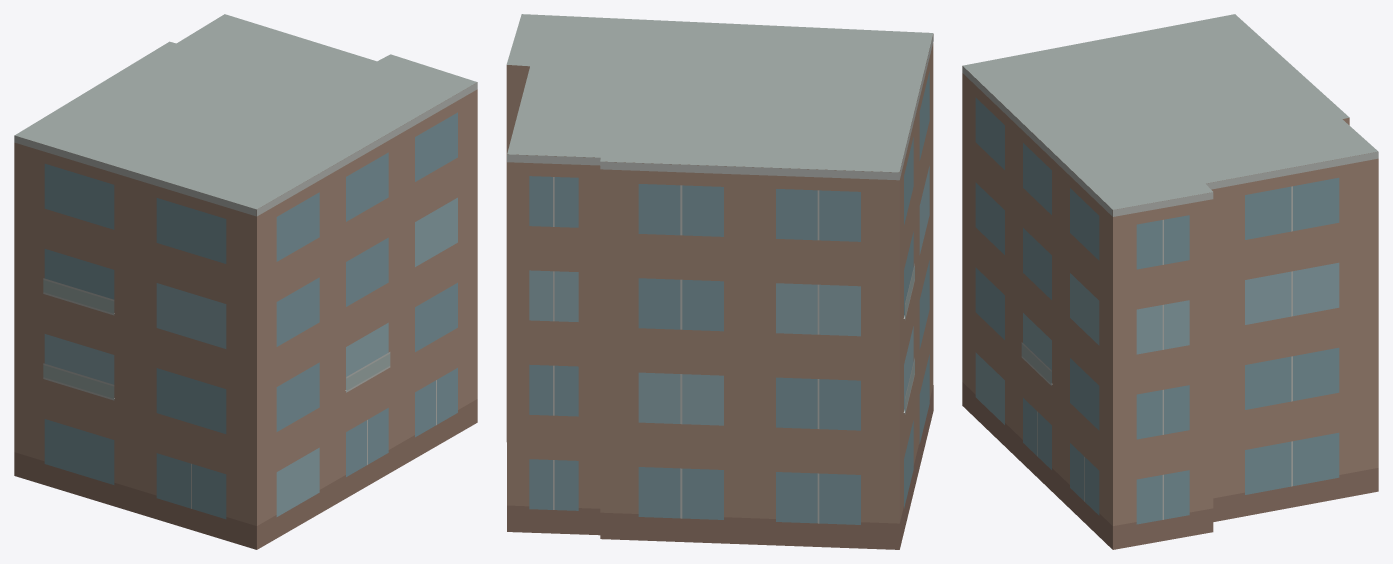
Rendered from survey-upis-32757898.glb.
3 views of the same model, side by side, from view 1: azimuth 30°, elevation 25°; view 2: azimuth 150°, elevation 25°; view 3: azimuth 270°, elevation 25° (orthographic). The views are drawn at different scales.
Visible parts, largest first — view 1: survey-upis-32757898.tmp; view 2: survey-upis-32757898.tmp; view 3: survey-upis-32757898.tmp.
Part boxes in pixels (x1,y1,x2,y2): survey-upis-32757898.tmp: [14, 14, 477, 549]; survey-upis-32757898.tmp: [506, 14, 933, 549]; survey-upis-32757898.tmp: [962, 14, 1378, 549].
Bounding box in the file's own units: 14.47 × 11.7 × 12.99.
